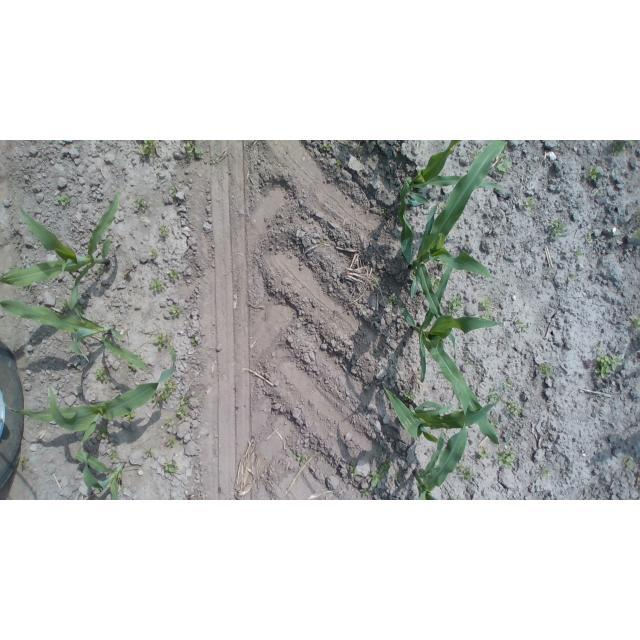Maize: (399, 142, 517, 326), (404, 247, 508, 447), (4, 346, 180, 442), (1, 185, 124, 315), (0, 292, 154, 376), (386, 141, 464, 286), (374, 385, 482, 455), (408, 416, 475, 501), (53, 444, 139, 500)
Weeds: (367, 449, 395, 488), (593, 350, 625, 379), (151, 378, 181, 406), (176, 140, 205, 162), (549, 217, 572, 242), (138, 140, 165, 160), (584, 165, 605, 187), (536, 361, 559, 381), (58, 299, 86, 315), (480, 297, 497, 321), (495, 152, 513, 174), (447, 293, 464, 316), (152, 332, 172, 351), (492, 447, 513, 465), (459, 466, 478, 485), (506, 400, 524, 419), (484, 389, 505, 405), (55, 193, 73, 210), (346, 457, 359, 480), (612, 140, 635, 152), (107, 448, 123, 465), (521, 195, 539, 210), (96, 366, 111, 384), (134, 198, 150, 214), (148, 279, 166, 293), (162, 460, 180, 474), (165, 304, 182, 318), (332, 158, 346, 174), (176, 407, 193, 420), (163, 438, 179, 451), (122, 409, 138, 422), (160, 221, 171, 239), (634, 210, 640, 243), (319, 140, 333, 154), (516, 319, 530, 333), (295, 452, 310, 465), (475, 446, 487, 462), (101, 424, 112, 441), (402, 391, 416, 404), (428, 275, 439, 290), (19, 456, 30, 471), (170, 184, 181, 198), (387, 292, 398, 306), (630, 315, 640, 330), (371, 276, 383, 288), (128, 360, 140, 372), (180, 395, 191, 408), (190, 334, 201, 347), (624, 458, 635, 471), (539, 466, 550, 479), (145, 448, 156, 461), (169, 271, 183, 281), (164, 418, 176, 429), (585, 230, 593, 246), (146, 250, 160, 259), (567, 274, 579, 283), (391, 471, 399, 481), (361, 487, 372, 494), (575, 249, 583, 257)
